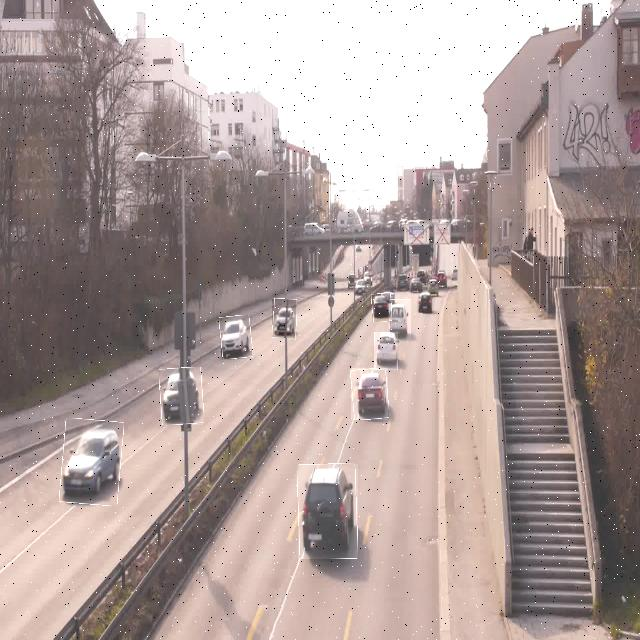Car: (298, 464, 358, 559), (61, 419, 123, 505), (160, 367, 203, 425), (351, 368, 388, 420), (220, 315, 252, 359), (272, 299, 296, 338), (374, 332, 398, 370), (389, 299, 411, 340), (372, 294, 391, 322), (417, 289, 435, 313)
